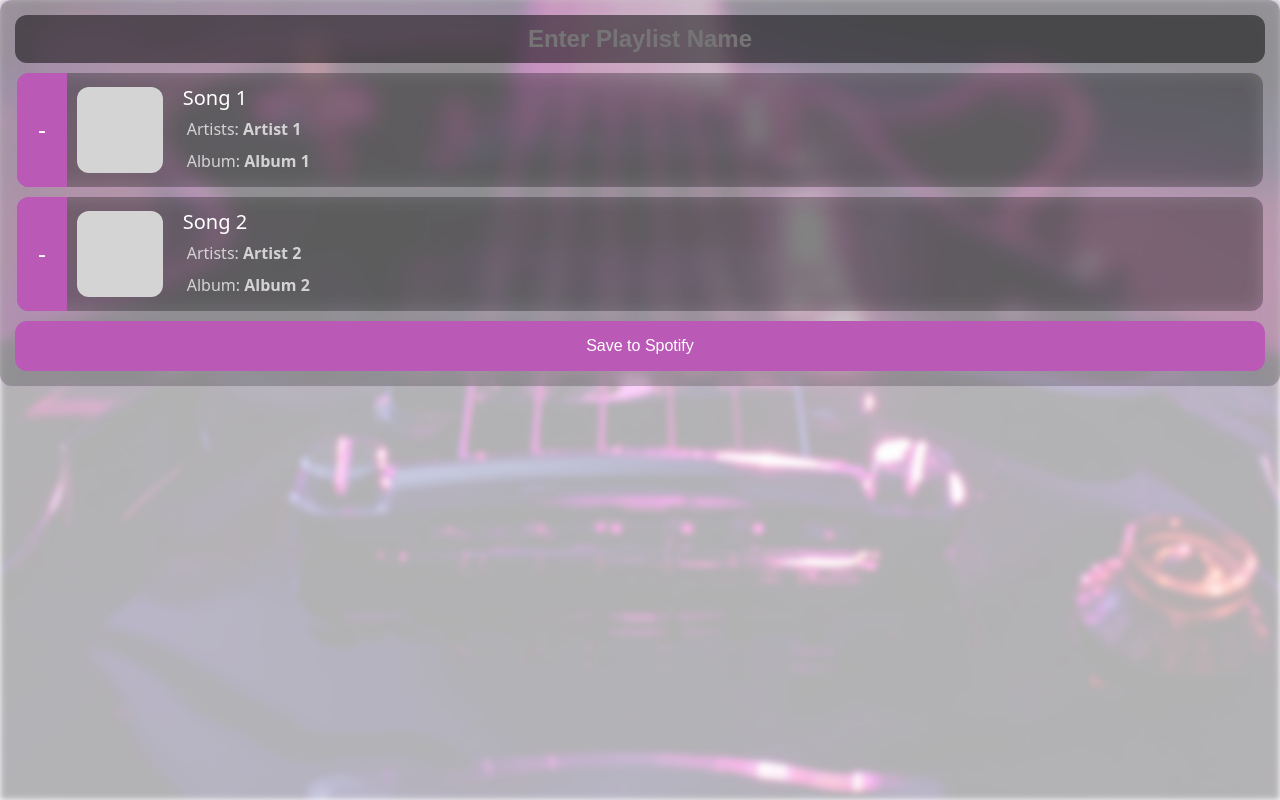
Test case: Playlist Component › shows error message when no title is provided
Click the button "Save to Spotify": click(640, 346) top-left (15, 321), bottom-right (1265, 371)
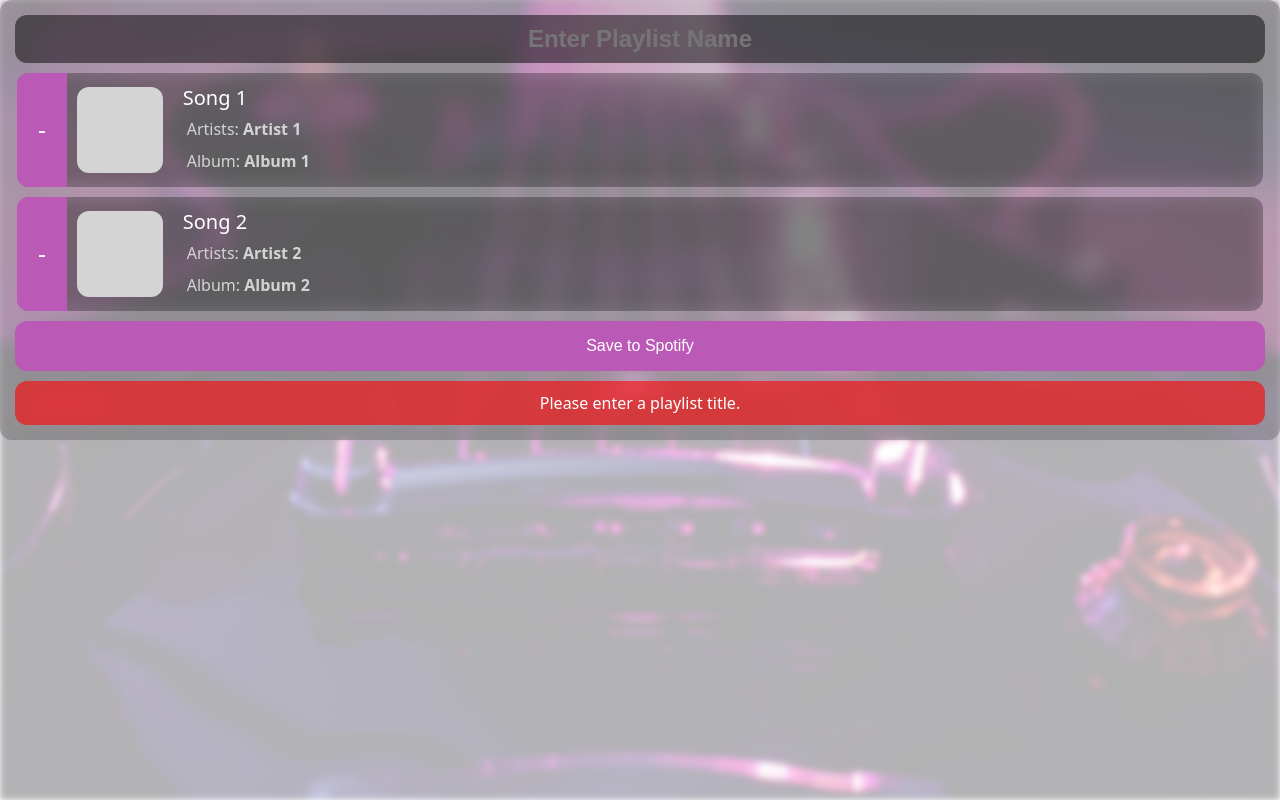
Check: the text "Please enter a playlist title." is shown, box top-left (540, 392), bottom-right (740, 414)
